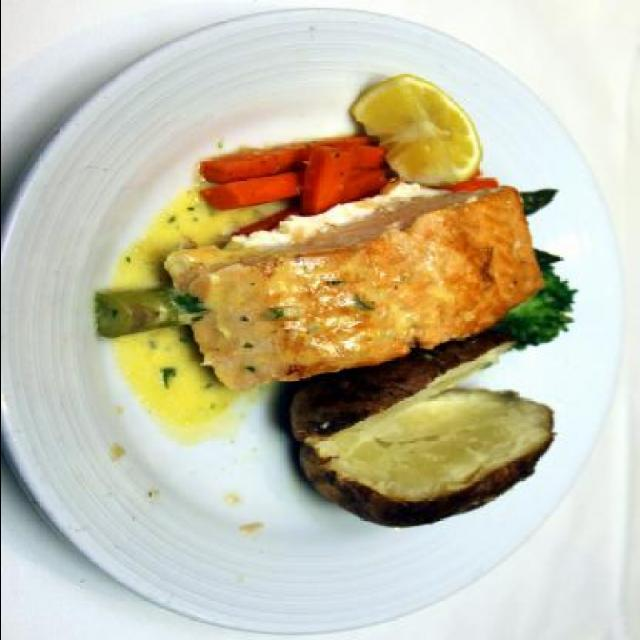Lemon: (354, 74, 480, 186)
